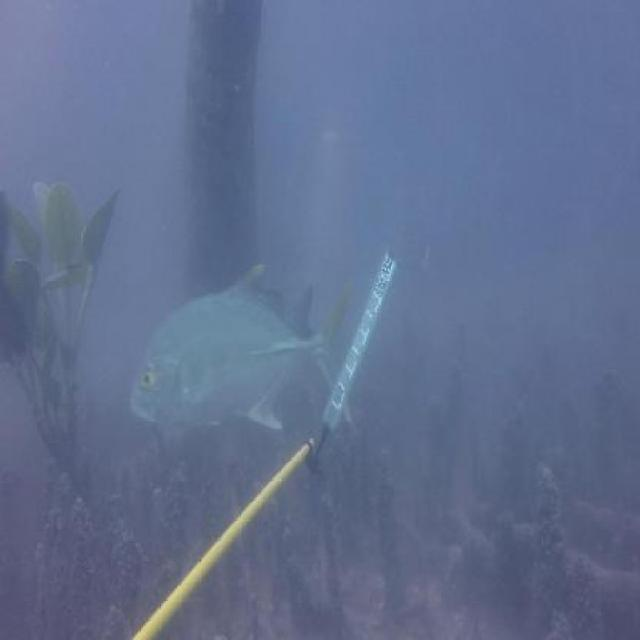Caranx: (127, 262, 358, 436)
acanthopagrus_palmaris: (247, 268, 322, 346), (0, 184, 28, 364)
